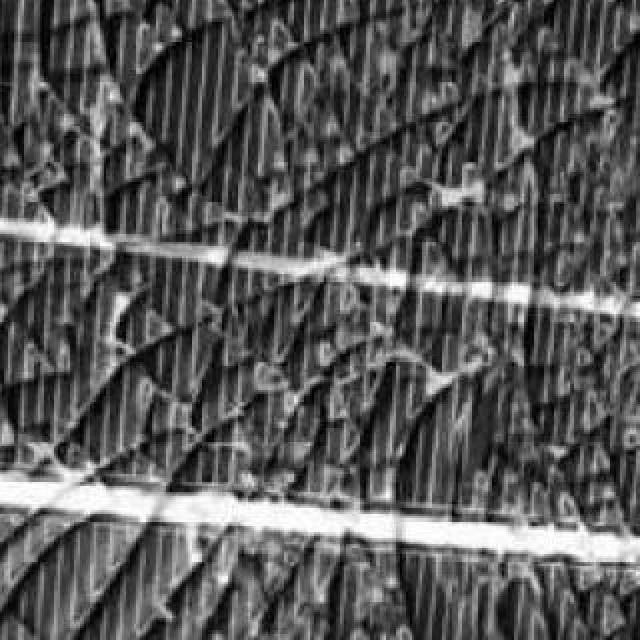Physical-damage: (6, 9, 632, 633)
